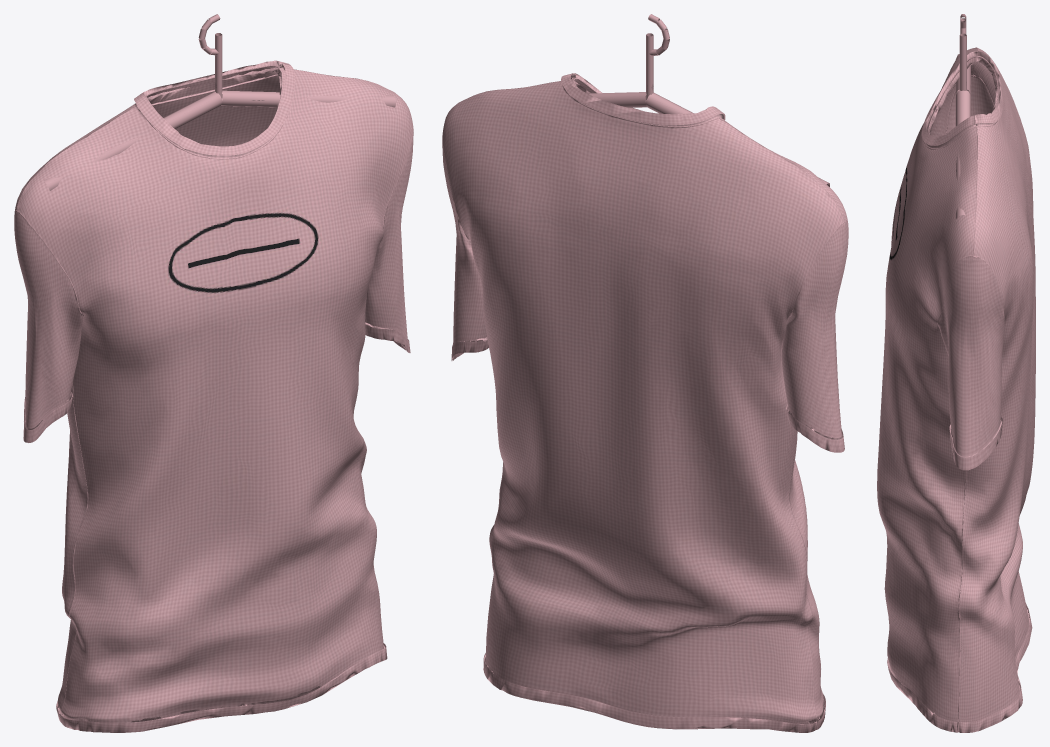
File: rack-sweater-pink.glb
3 renders of one model, left to right at view 1: azimuth 30°, elevation 25°; view 2: azimuth 150°, elevation 25°; view 3: azimuth 270°, elevation 25°, orthographic. The views are drawn at different scales.
Visible parts, largest first — view 1: HangingGarment; view 2: HangingGarment; view 3: HangingGarment.
Part boxes in pixels (x1=…): HangingGarment: x1=14, y1=14, x2=413, y2=732; HangingGarment: x1=442, y1=14, x2=848, y2=732; HangingGarment: x1=877, y1=14, x2=1035, y2=732.
Bounding box in the file's own units: 0.4214 × 0.6904 × 0.1546.
Materials: 1 (1 with a texture image).
